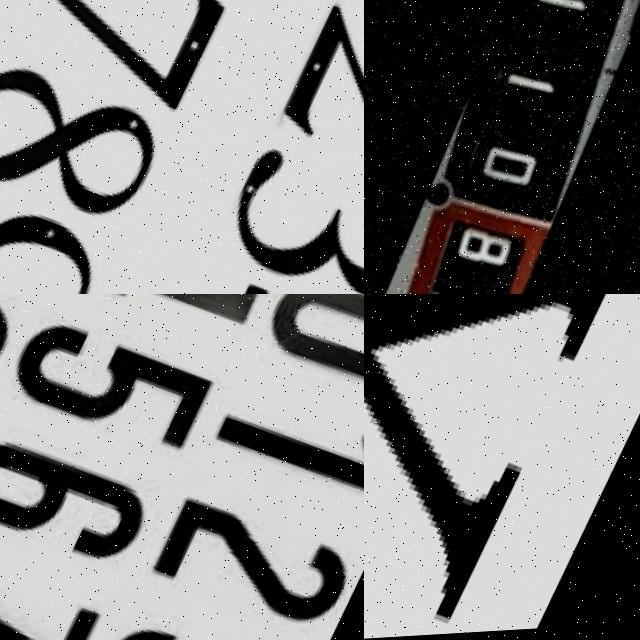0: (256, 294, 364, 425), (478, 137, 551, 202)
1: (209, 377, 364, 525), (501, 58, 571, 113), (531, 0, 599, 29)
2: (145, 479, 364, 640), (273, 0, 364, 205)
3: (210, 138, 364, 294), (91, 600, 315, 640)
4: (58, 294, 290, 359)
5: (0, 305, 228, 474)
6: (0, 420, 174, 590)
7: (0, 0, 244, 123), (0, 540, 115, 640)
8: (0, 45, 178, 241), (456, 221, 529, 282)
9: (0, 166, 118, 294)
X: (364, 294, 640, 640)
